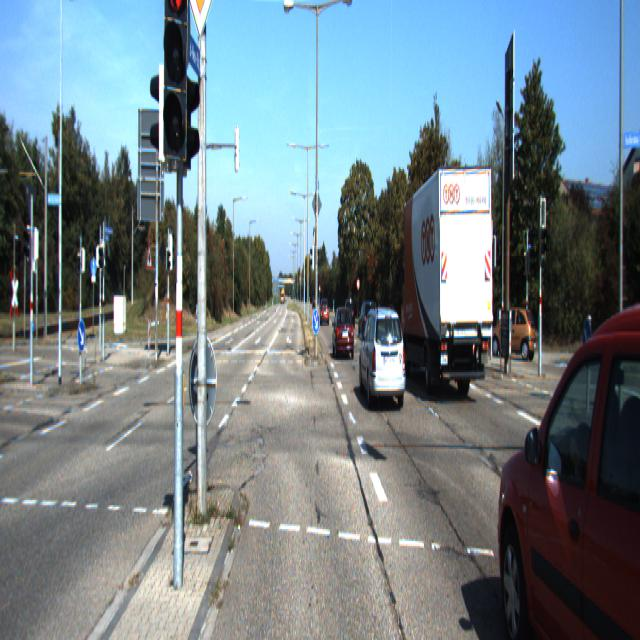Car: (494, 278, 640, 638), (397, 159, 494, 406), (359, 304, 408, 416), (490, 304, 538, 360), (333, 305, 354, 361), (358, 299, 376, 338)
